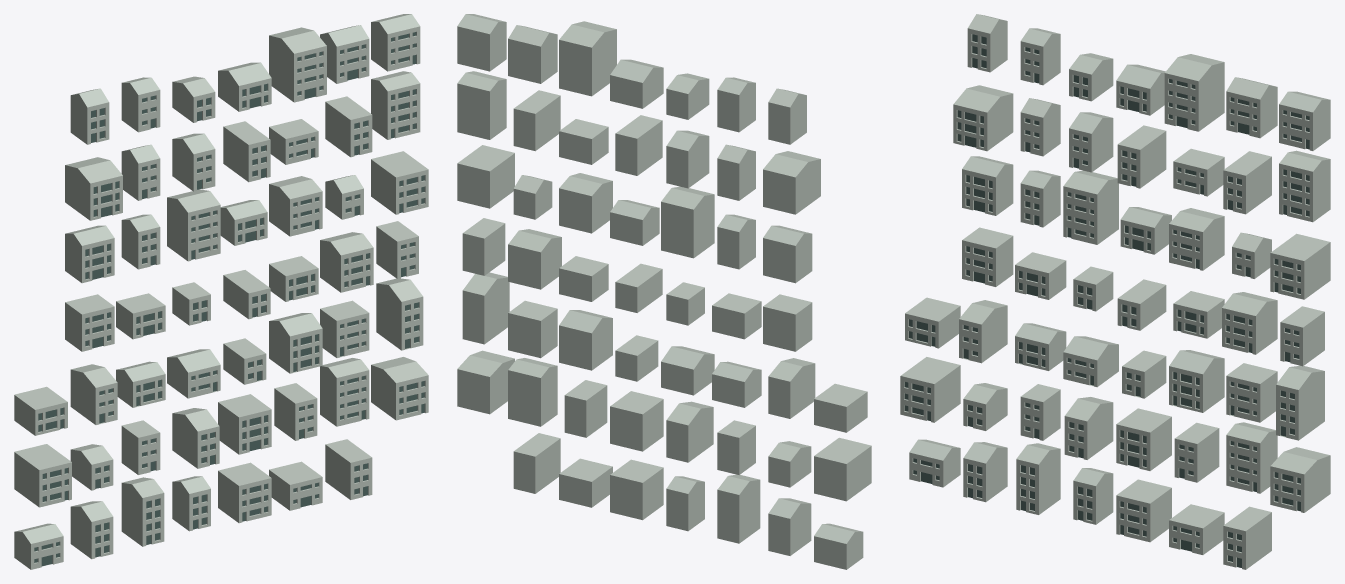
File: Sahne2Kapanacak.gltf
3 renders of one model, left to right at view 1: azimuth 30°, elevation 25°; view 2: azimuth 150°, elevation 25°; view 3: azimuth 330°, elevation 25°, orthographic. The views are drawn at different scales.
Visible parts, largest first — view 1: Building_049.011, Building_037.011, Building_068.011, Building_061.011, Building_067.011, Building_065.011, Building_020.010, Building_022.011, Building_064.011, Building_051.011, Building_059.011, Building_053.011 (+39 smaller); view 2: Building_049.011, Building_037.011, Building_022.011, Building_064.011, Building_061.011, Building_020.010, Building_065.011, Building_067.011, Building_068.011, Building_053.011, Building_059.011, Building_051.011 (+39 smaller); view 3: Building_049.011, Building_037.011, Building_068.011, Building_065.011, Building_020.010, Building_022.011, Building_067.011, Building_064.011, Building_061.011, Building_051.011, Building_059.011, Building_053.011 (+39 smaller).
Part boxes in pixels (x1=…): Building_049.011: x1=269, y1=27, x2=326, y2=102; Building_037.011: x1=167, y1=189, x2=220, y2=261; Building_068.011: x1=371, y1=357, x2=428, y2=420; Building_061.011: x1=320, y1=358, x2=369, y2=426; Building_067.011: x1=376, y1=278, x2=423, y2=350; Building_065.011: x1=371, y1=151, x2=428, y2=214; Building_020.010: x1=14, y1=444, x2=71, y2=507; Building_022.011: x1=65, y1=157, x2=122, y2=220; Building_064.011: x1=371, y1=71, x2=420, y2=139; Building_051.011: x1=269, y1=176, x2=322, y2=236; Building_059.011: x1=320, y1=232, x2=373, y2=292; Building_053.011: x1=269, y1=313, x2=322, y2=373; Building_049.011: x1=559, y1=21, x2=616, y2=96; Building_037.011: x1=661, y1=186, x2=714, y2=258; Building_022.011: x1=763, y1=151, x2=820, y2=214; Building_064.011: x1=457, y1=71, x2=506, y2=139; Building_061.011: x1=508, y1=358, x2=557, y2=426; Building_020.010: x1=814, y1=437, x2=871, y2=501; Building_065.011: x1=457, y1=145, x2=514, y2=208; Building_067.011: x1=462, y1=272, x2=509, y2=344; Building_068.011: x1=457, y1=350, x2=514, y2=414; Building_053.011: x1=559, y1=310, x2=612, y2=370; Building_059.011: x1=508, y1=229, x2=561, y2=289; Building_051.011: x1=559, y1=173, x2=612, y2=233; Building_049.011: x1=1164, y1=54, x2=1224, y2=131; Building_037.011: x1=1063, y1=170, x2=1118, y2=244; Building_068.011: x1=1270, y1=447, x2=1330, y2=512; Building_065.011: x1=1270, y1=233, x2=1330, y2=299; Building_020.010: x1=900, y1=357, x2=960, y2=422; Building_022.011: x1=953, y1=85, x2=1013, y2=151; Building_067.011: x1=1276, y1=365, x2=1324, y2=440; Building_064.011: x1=1279, y1=150, x2=1330, y2=222; Building_061.011: x1=1226, y1=422, x2=1277, y2=493; Building_051.011: x1=1169, y1=208, x2=1224, y2=270; Building_059.011: x1=1222, y1=292, x2=1277, y2=354; Building_053.011: x1=1169, y1=350, x2=1224, y2=412.
Bounding box in the file's own units: 0.5815 × 0.6652 × 0.0652.
